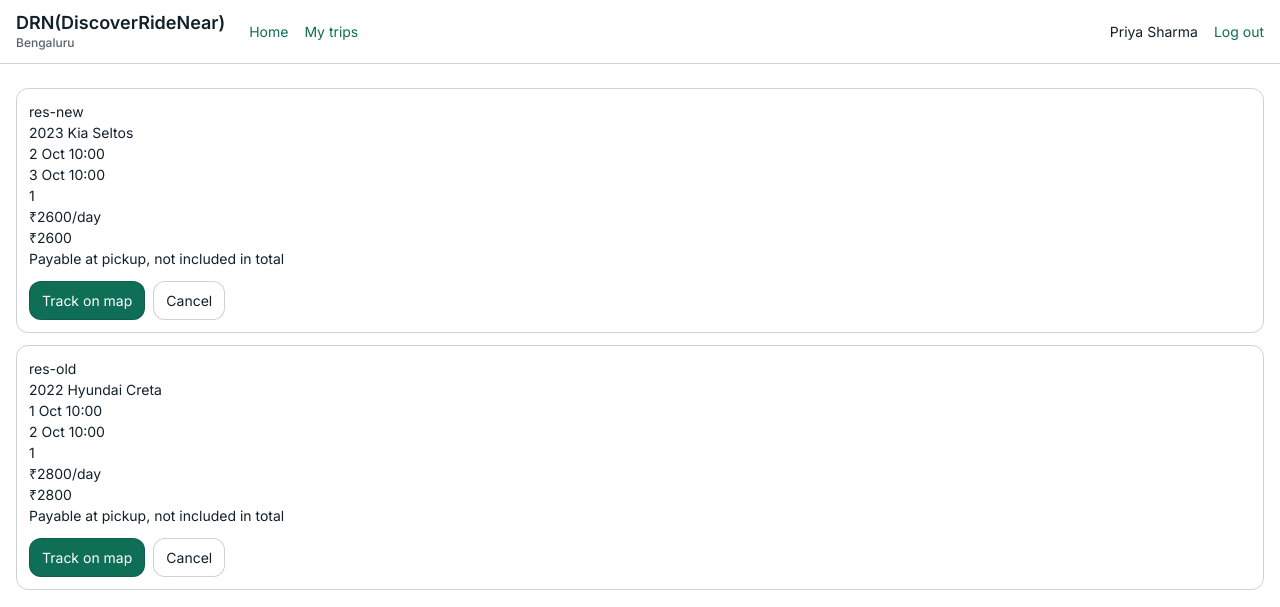
Scenario: My trips › lists reservations newest first with Track on map and Cancel
The width and height of the screenshot is (1280, 607).
Expected: the text "res-new" is shown, [29,103,84,120]
Expected: the text "2023 Kia Seltos" is shown, [29,124,133,141]
What coordinates should you click on to do the following:
click the button "Cancel" below "3 Oct 10:00"
I would click on:
 (189, 300)
Its box is [153,281,225,320].
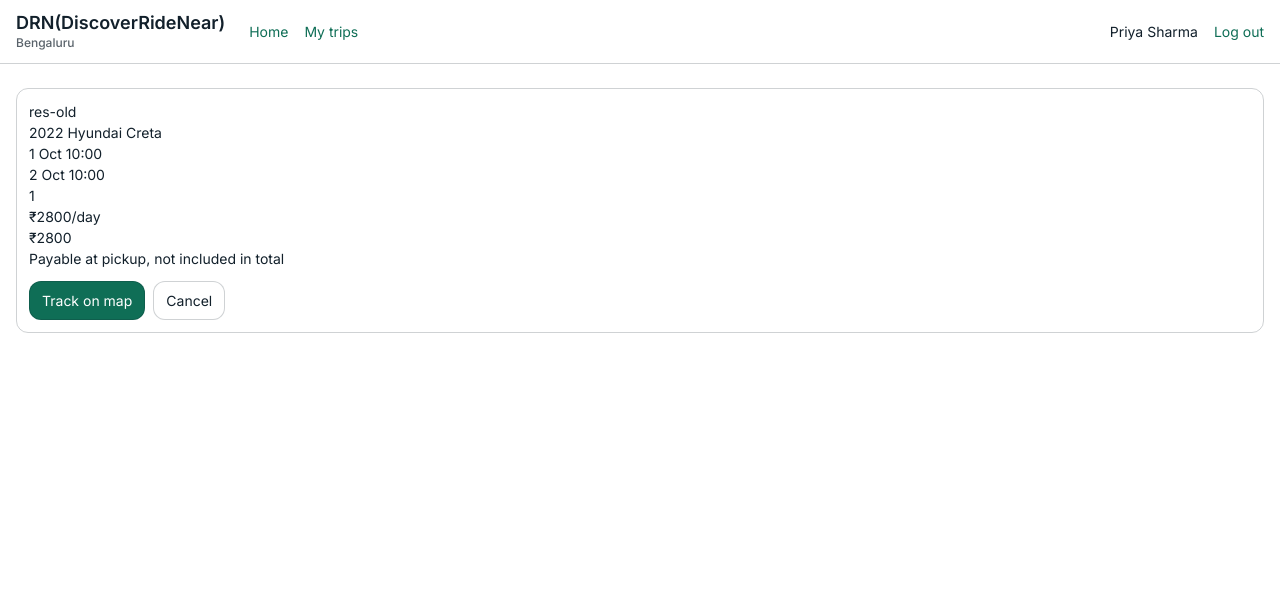
Expected: the text "res-old" is shown, [29,103,76,120]
Result: the text "res-new" is gone
